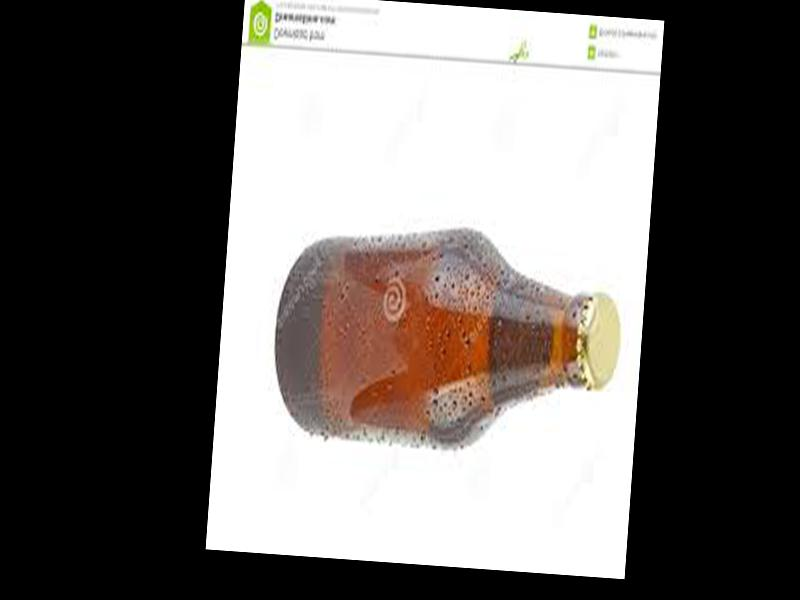Beer: (269, 217, 625, 461)
